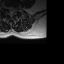CCS_normal: (10, 8, 12, 16)
LFS_stenosis: (14, 7, 16, 13)
LLS_normal: (12, 8, 14, 15)
RFS_severe_stenosis: (6, 7, 9, 12)
RLS_normal: (9, 8, 10, 14)
